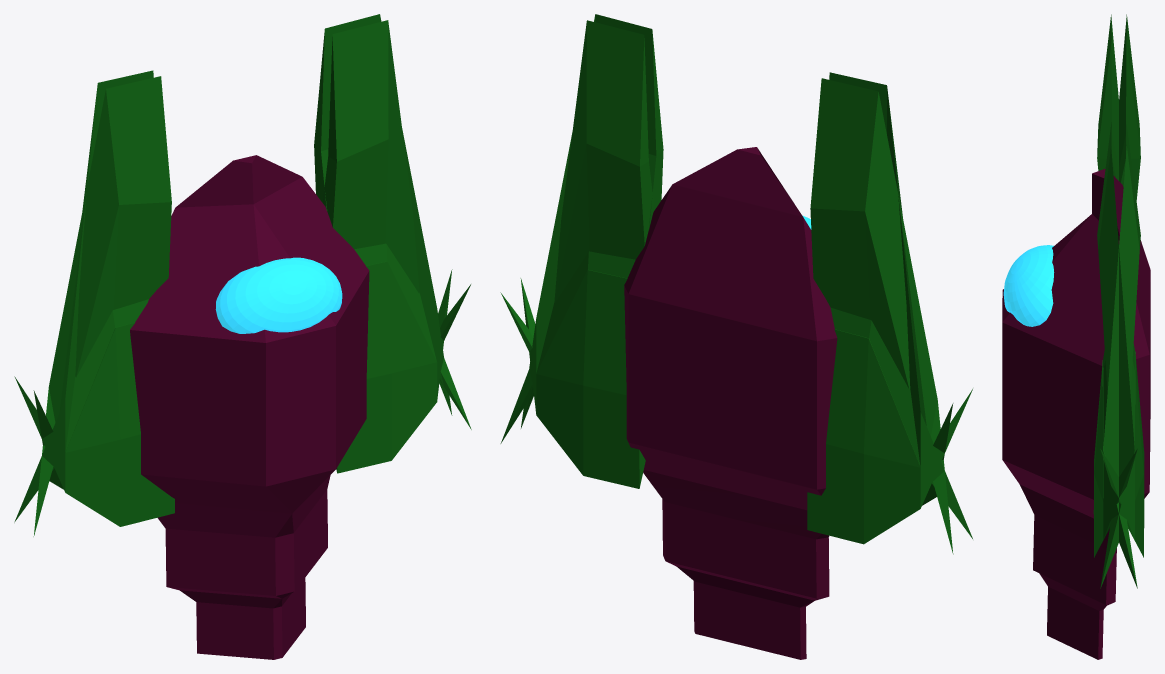
The model's file is SPACE_Fin1.glb.
3 renders of one model, left to right at view 1: azimuth 30°, elevation 25°; view 2: azimuth 150°, elevation 25°; view 3: azimuth 270°, elevation 25°, orthographic. The views are drawn at different scales.
Parts seen in each view (by area): view 1: Cube.001, Cube.003, Cube.002, Sphere; view 2: Cube.001, Cube.003, Cube.002; view 3: Cube.001, Cube.002, Cube.003, Sphere.
Boxes of the visible parts, left/top/right/bottom form: Cube.001: left=130, top=155, right=369, bottom=659; Cube.003: left=14, top=70, right=174, bottom=536; Cube.002: left=314, top=14, right=471, bottom=473; Sphere: left=215, top=257, right=342, bottom=333; Cube.001: left=624, top=147, right=837, bottom=659; Cube.003: left=807, top=72, right=972, bottom=554; Cube.002: left=500, top=14, right=663, bottom=488; Cube.001: left=1002, top=168, right=1150, bottom=659; Cube.002: left=1093, top=121, right=1144, bottom=588; Cube.003: left=1097, top=14, right=1140, bottom=199; Sphere: left=1003, top=245, right=1054, bottom=326.
Size of the model in its own units: 5.46 by 6.98 by 1.67.
